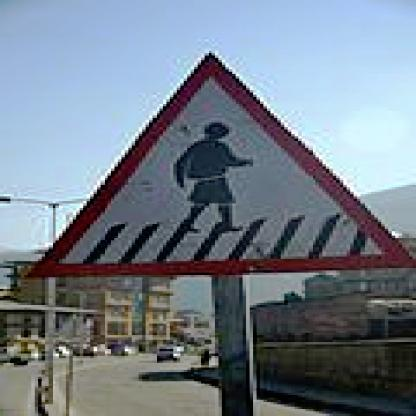Pedestrian Crossing: (26, 42, 410, 294)
